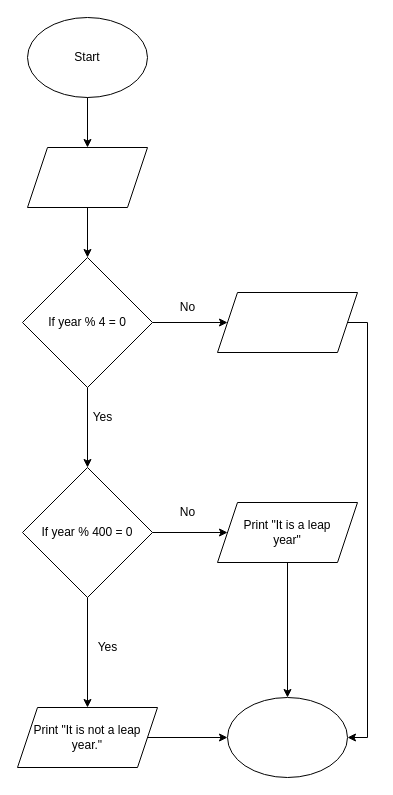
The diagram is 393 pixels wide and 795 high, and some of its shapes have lost their labels. Here are the shapes that lost their labels. From the top down, the centre of each, then its label:
pixel 87 177: Get year
pixel 287 322: Print "It is not a leap year"
pixel 287 737: Stop
